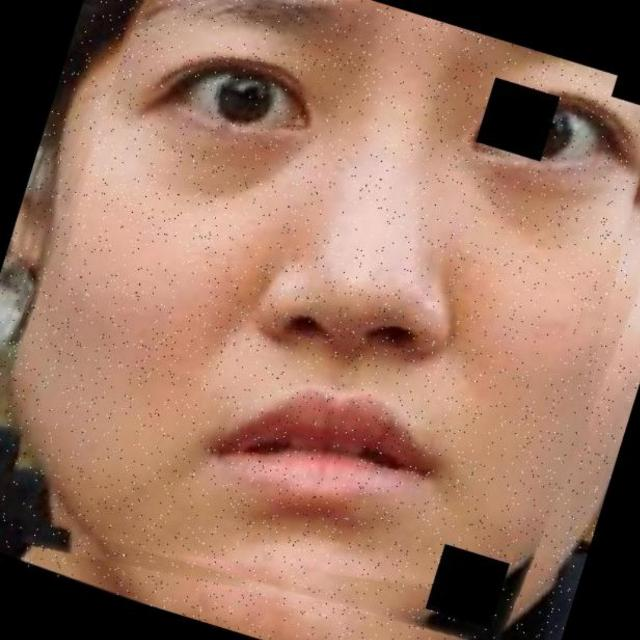Disgust: (103, 4, 638, 640)
